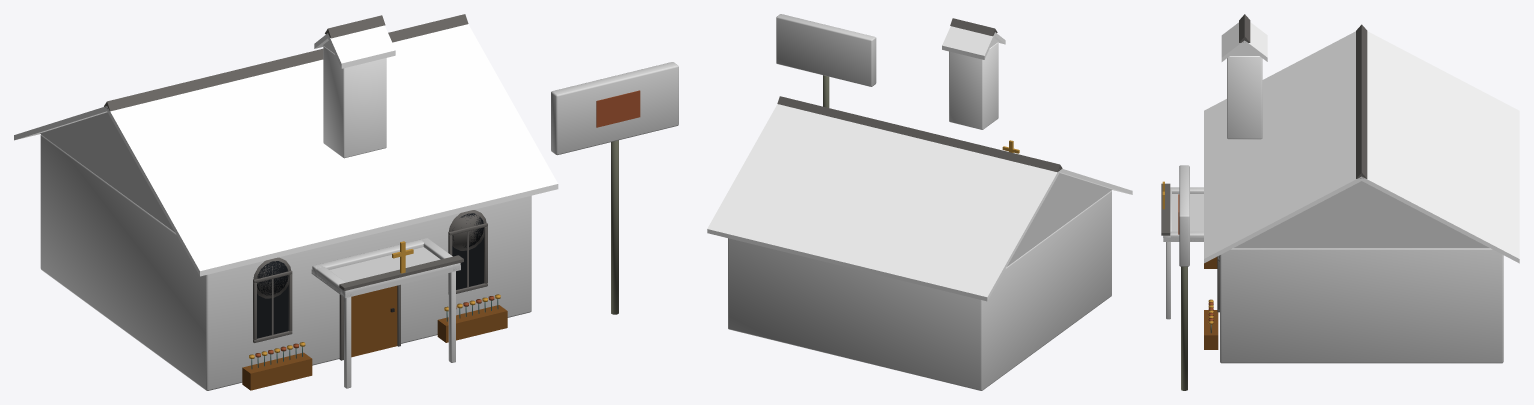
The model's file is bld_chapel.glb.
3 views of the same model, side by side, from view 1: azimuth 30°, elevation 25°; view 2: azimuth 150°, elevation 25°; view 3: azimuth 270°, elevation 25° (orthographic). The views are drawn at different scales.
Visible parts, largest first — view 1: cp_roof_front, cp_body, cp_sign, cp_cote, cp_roof_gable, cp_roof_cap, cp_door, cp_canopy_deck, cp_cotecap_front, cp_box, cp_box.001, cp_pole (+12 smaller); view 2: cp_roof_back, cp_body, cp_sign, cp_cote, cp_roof_gable, cp_roof_cap, cp_cotecap_back, cp_roof_front, cp_cotecap_cap; view 3: cp_body, cp_roof_back, cp_roof_front, cp_roof_gable, cp_cote, cp_roof_cap, cp_sign, cp_canopy_deck, cp_pole, cp_box.001, cp_cotecap_front, cp_cotecap_back (+2 smaller).
Part boxes in pixels (x1,y1,x2,y2): cp_roof_front: (107,24,558,276); cp_body: (40,134,531,390); cp_sign: (551,62,678,155); cp_cote: (323,46,386,158); cp_roof_gable: (40,112,174,232); cp_roof_cap: (104,14,468,111); cp_door: (351,285,397,357); cp_canopy_deck: (311,247,460,298); cp_cotecap_front: (328,25,395,68); cp_box: (242,352,312,390); cp_box.001: (437,305,507,342); cp_pole: (611,140,618,314); cp_roof_back: (707,104,1059,301); cp_body: (728,190,1111,390); cp_sign: (776,14,876,86); cp_cote: (949,42,998,129); cp_roof_gable: (1007,173,1112,266); cp_roof_cap: (777,96,1062,172); cp_cotecap_back: (942,26,994,59); cp_roof_front: (1060,169,1132,194); cp_cotecap_cap: (950,18,997,36); cp_body: (1220,248,1503,363); cp_roof_back: (1361,31,1519,263); cp_roof_front: (1204,31,1361,263); cp_roof_gable: (1233,181,1489,248); cp_cote: (1227,56,1262,139); cp_roof_cap: (1356,24,1367,178); cp_sign: (1179,165,1189,266); cp_canopy_deck: (1163,194,1203,241); cp_pole: (1181,266,1187,390); cp_box.001: (1204,310,1218,349); cp_cotecap_front: (1221,22,1244,61); cp_cotecap_back: (1244,22,1267,61).
Bounding box in the file's own units: 12.85 × 8.45 × 10.1.
